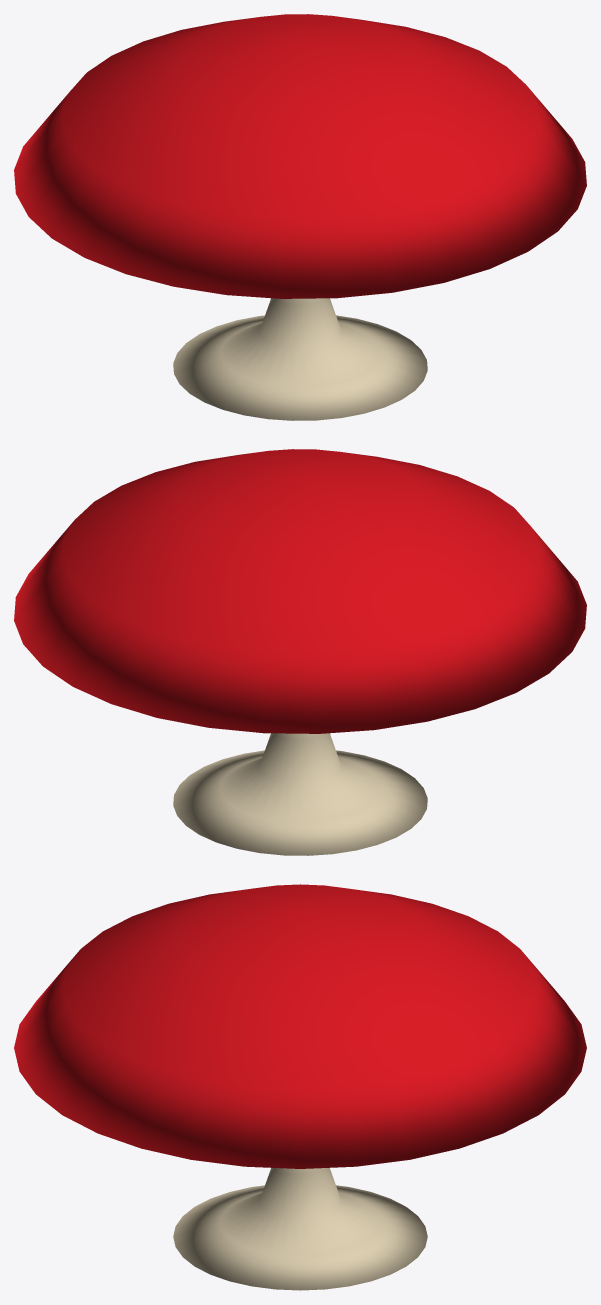
The model's file is champi05.fbx.
3 views of the same model, one above another, from view 1: azimuth 30°, elevation 25°; view 2: azimuth 150°, elevation 25°; view 3: azimuth 270°, elevation 25° (orthographic).
Visible parts, largest first — view 1: Cube; view 2: Cube; view 3: Cube.
Boxes of the visible parts, x1,y1,x2,y2 form: Cube: [14, 14, 586, 420]; Cube: [14, 449, 586, 855]; Cube: [14, 884, 586, 1290].
Size of the model in its own units: 267 by 165 by 267.
